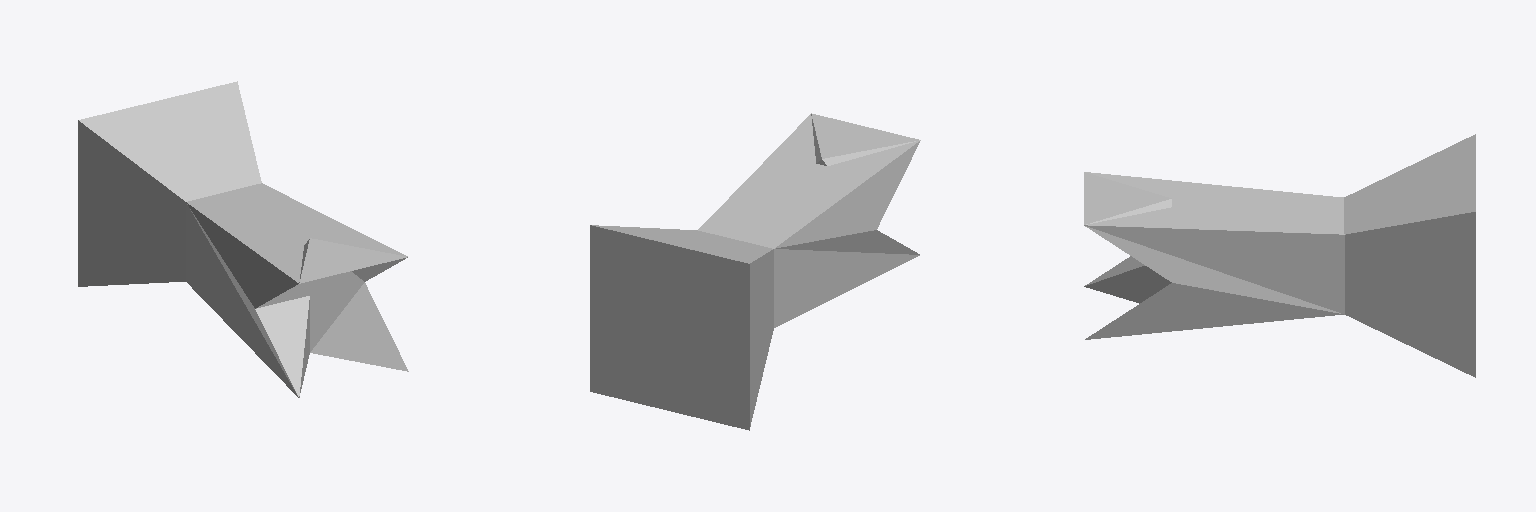
Rendered from Tower-CAPTUREBASE.obj.
3 renders of one model, left to right at view 1: azimuth 30°, elevation 25°; view 2: azimuth 150°, elevation 25°; view 3: azimuth 270°, elevation 25°, orthographic.
Visible parts, largest first — view 1: polySurface11 polySurface6; view 2: polySurface11 polySurface6; view 3: polySurface11 polySurface6.
Boxes of the visible parts, x1=… form: polySurface11 polySurface6: x1=78, y1=81, x2=408, y2=397; polySurface11 polySurface6: x1=590, y1=113, x2=920, y2=430; polySurface11 polySurface6: x1=1084, y1=134, x2=1475, y2=377.
Bounding box in the file's own units: 0.7807 × 0.7807 × 1.67.